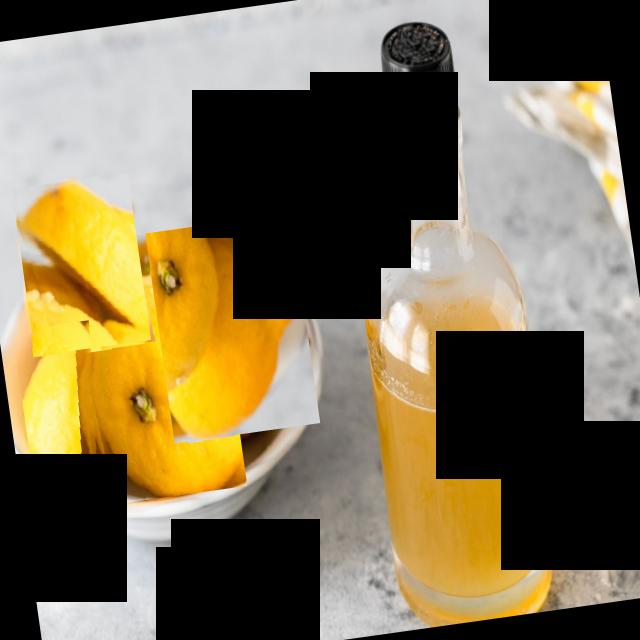lemon: (146, 212, 320, 443), (71, 278, 247, 506), (12, 172, 152, 356), (12, 320, 112, 495)
